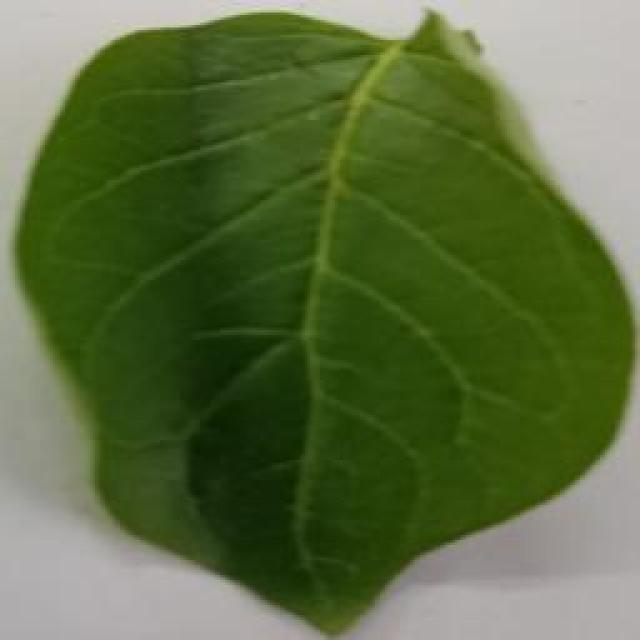Potato_Healthy: (10, 6, 622, 635)
